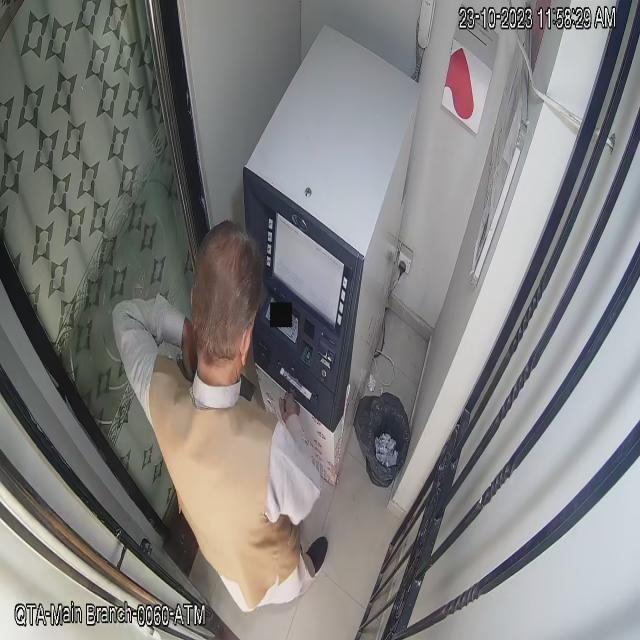note: (275, 358, 315, 408)
